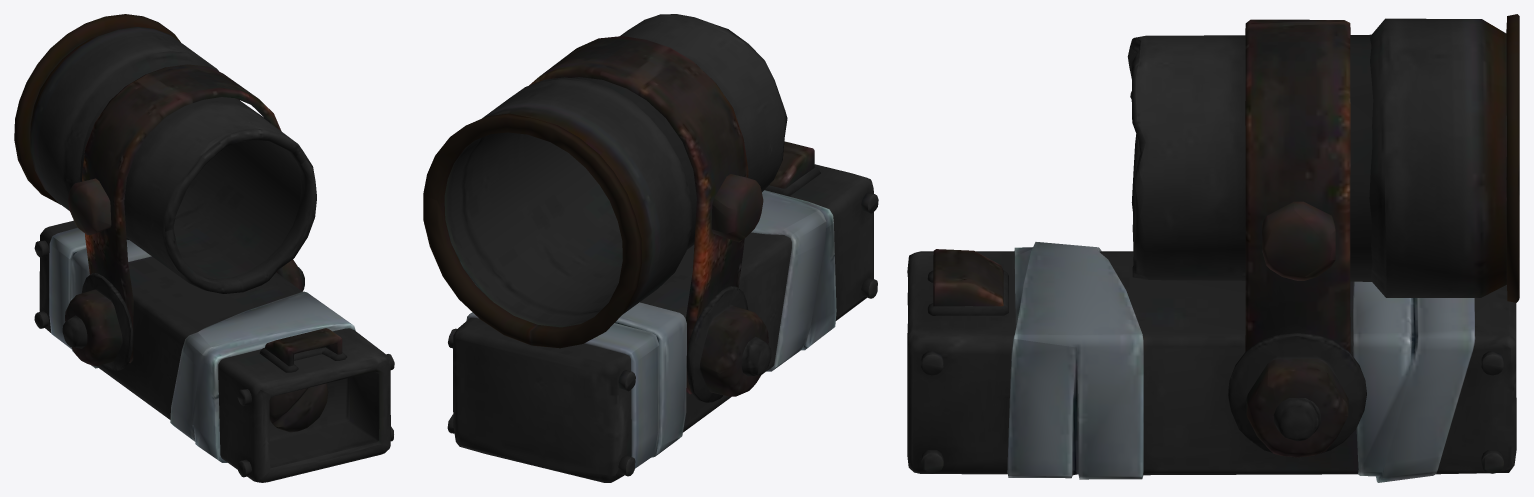
The model's file is simplesight.entity.glb.
The picture shows the model from 3 angles, left to right: view 1: azimuth 30°, elevation 25°; view 2: azimuth 150°, elevation 25°; view 3: azimuth 270°, elevation 25°; orthographic projection. The views are drawn at different scales.
Visible parts, largest first — view 1: MS_holosight_LOD0; view 2: MS_holosight_LOD0; view 3: MS_holosight_LOD0.
Part boxes in pixels (<box>): MS_holosight_LOD0: <box>14,14,394,482</box>; MS_holosight_LOD0: <box>423,14,878,482</box>; MS_holosight_LOD0: <box>907,14,1519,482</box>.
Bounding box in the file's own units: 0.0436 × 0.054 × 0.0724.
Materials: 1 (1 with a texture image).
